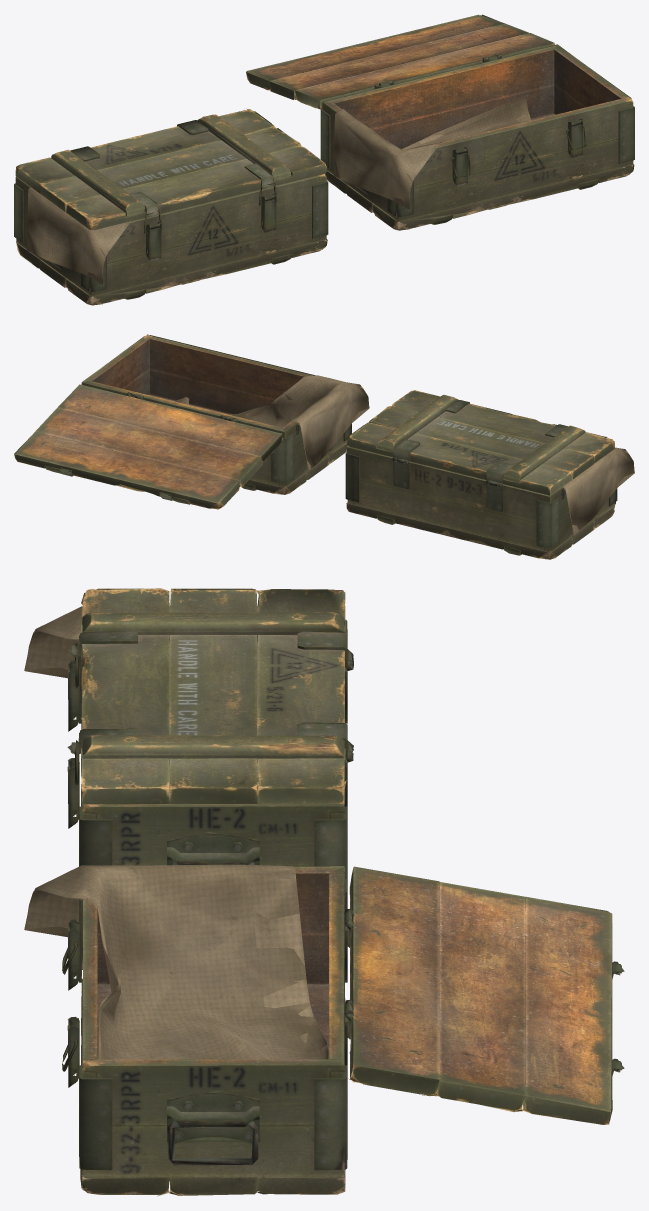
File: old_military_crate.glb
3 views of the same model, one above another, from view 1: azimuth 30°, elevation 25°; view 2: azimuth 150°, elevation 25°; view 3: azimuth 270°, elevation 25° (orthographic). The views are drawn at different scales.
Parts seen in each view (by area): view 1: old_military_crate; view 2: old_military_crate; view 3: old_military_crate.
Boxes of the visible parts, x1=… form: old_military_crate: x1=14, y1=14, x2=634, y2=305; old_military_crate: x1=14, y1=334, x2=634, y2=559; old_military_crate: x1=24, y1=588, x2=624, y2=1196.
Bounding box in the file's own units: 1.82 × 0.3002 × 0.9802.
Materials: 1 (1 with a texture image).
